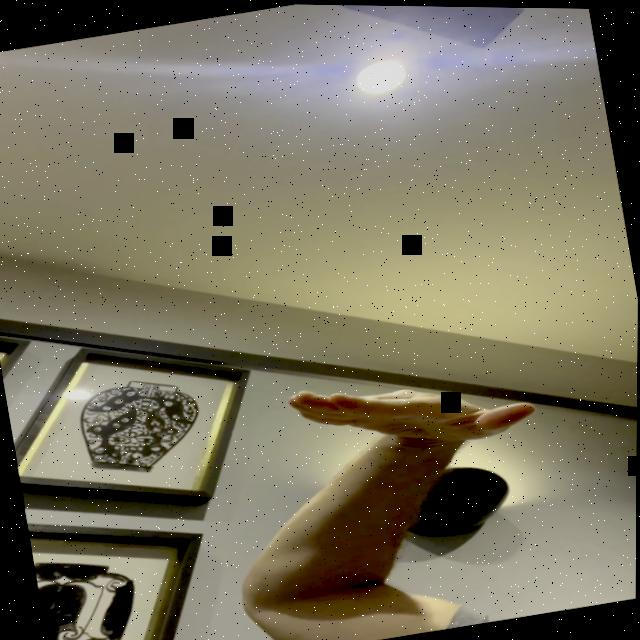Paper: (282, 349, 541, 475)
